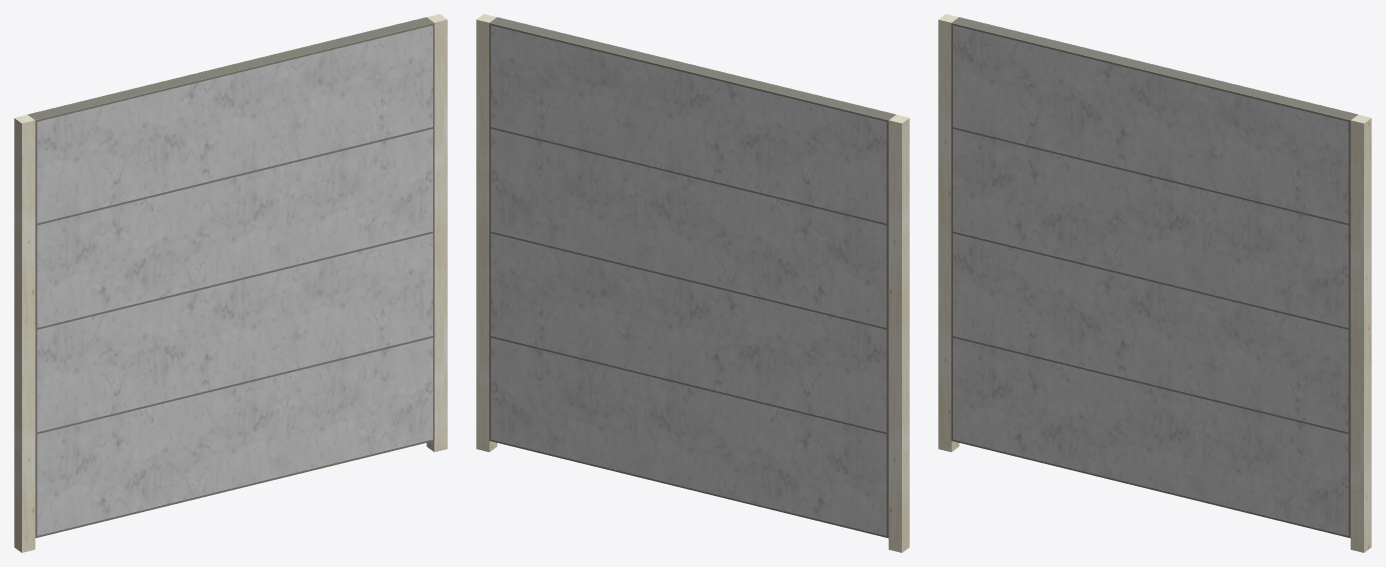
File: ABF1-H1800_whitemarble.fbx
3 views of the same model, side by side, from view 1: azimuth 30°, elevation 25°; view 2: azimuth 150°, elevation 25°; view 3: azimuth 330°, elevation 25° (orthographic).
Parts seen in each view (by area): view 1: 1850-1920-60_white marble; view 2: 1850-1920-60_white marble; view 3: 1850-1920-60_white marble.
Part boxes in pixels (left/top/right/bottom): 1850-1920-60_white marble: left=14, top=14, right=447, bottom=552; 1850-1920-60_white marble: left=476, top=14, right=909, bottom=552; 1850-1920-60_white marble: left=938, top=14, right=1371, bottom=552.
Size of the model in its own units: 192 by 185 by 6.4.
Materials: 5 (4 with a texture image).
